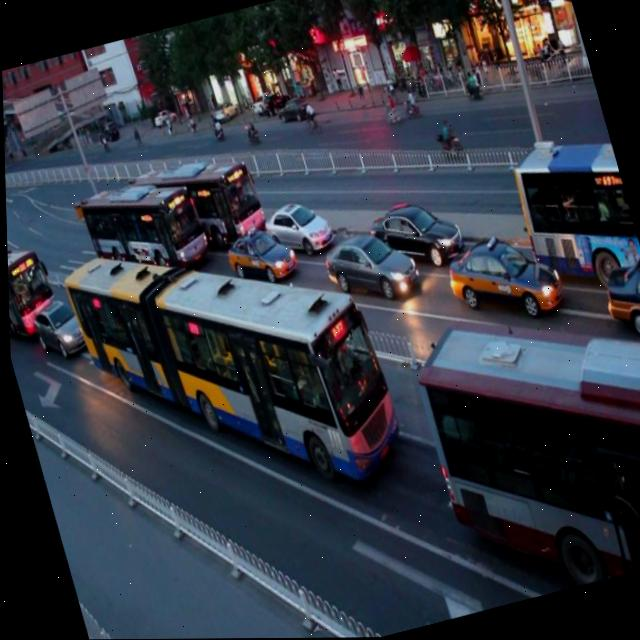car: (436, 220, 566, 340), (312, 216, 417, 316), (363, 187, 465, 278), (215, 215, 297, 294), (253, 188, 332, 266), (25, 291, 94, 364), (591, 250, 640, 341)
van: (52, 188, 409, 539), (403, 277, 640, 612), (500, 124, 640, 291), (71, 160, 212, 298), (127, 137, 269, 267), (5, 224, 55, 333)
